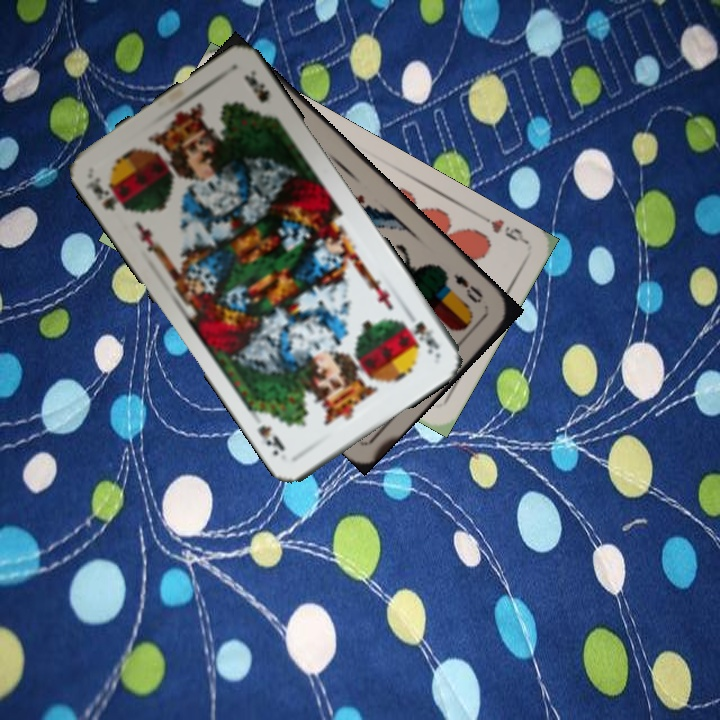EO: (449, 270, 486, 306)
H9: (474, 210, 528, 245)
SK: (82, 173, 131, 214), (409, 317, 442, 357)
